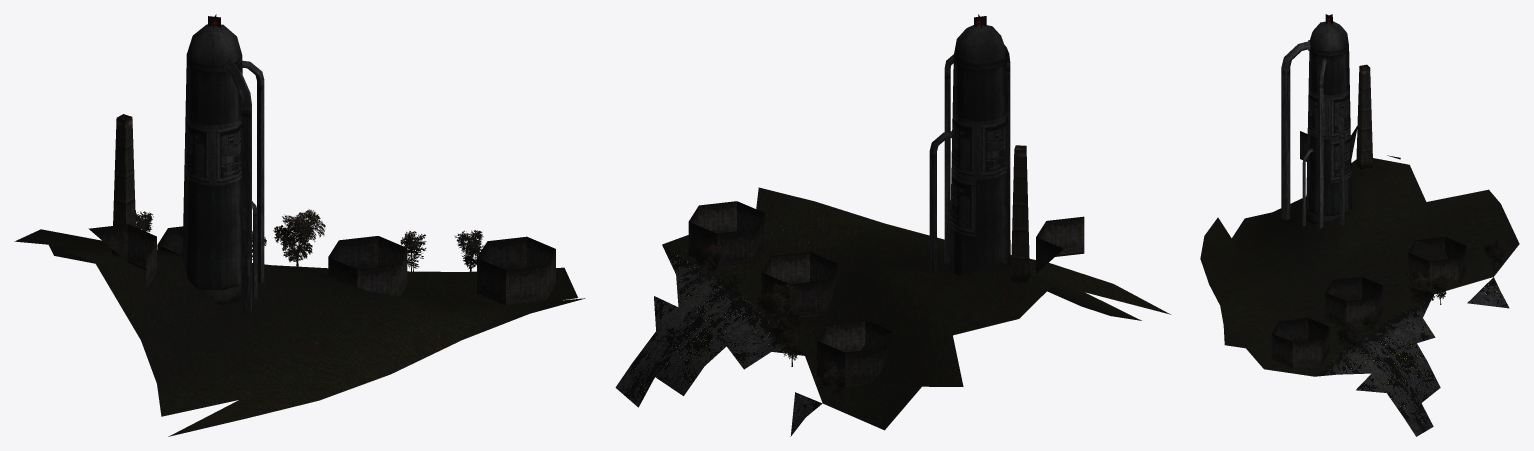
File: cell_15_-7.gltf
The picture shows the model from 3 angles, left to right: view 1: azimuth 30°, elevation 25°; view 2: azimuth 150°, elevation 25°; view 3: azimuth 270°, elevation 25°; orthographic projection. The views are drawn at different scales.
Parts seen in each view (by area): view 1: cell_15_-7; view 2: cell_15_-7; view 3: cell_15_-7.
Part boxes in pixels (<box>): cell_15_-7: <box>14,14,585,436</box>; cell_15_-7: <box>615,14,1170,436</box>; cell_15_-7: <box>1200,14,1519,436</box>.
Bounding box in the file's own units: 225 × 197 × 184.
Materials: 18 (18 with a texture image).
